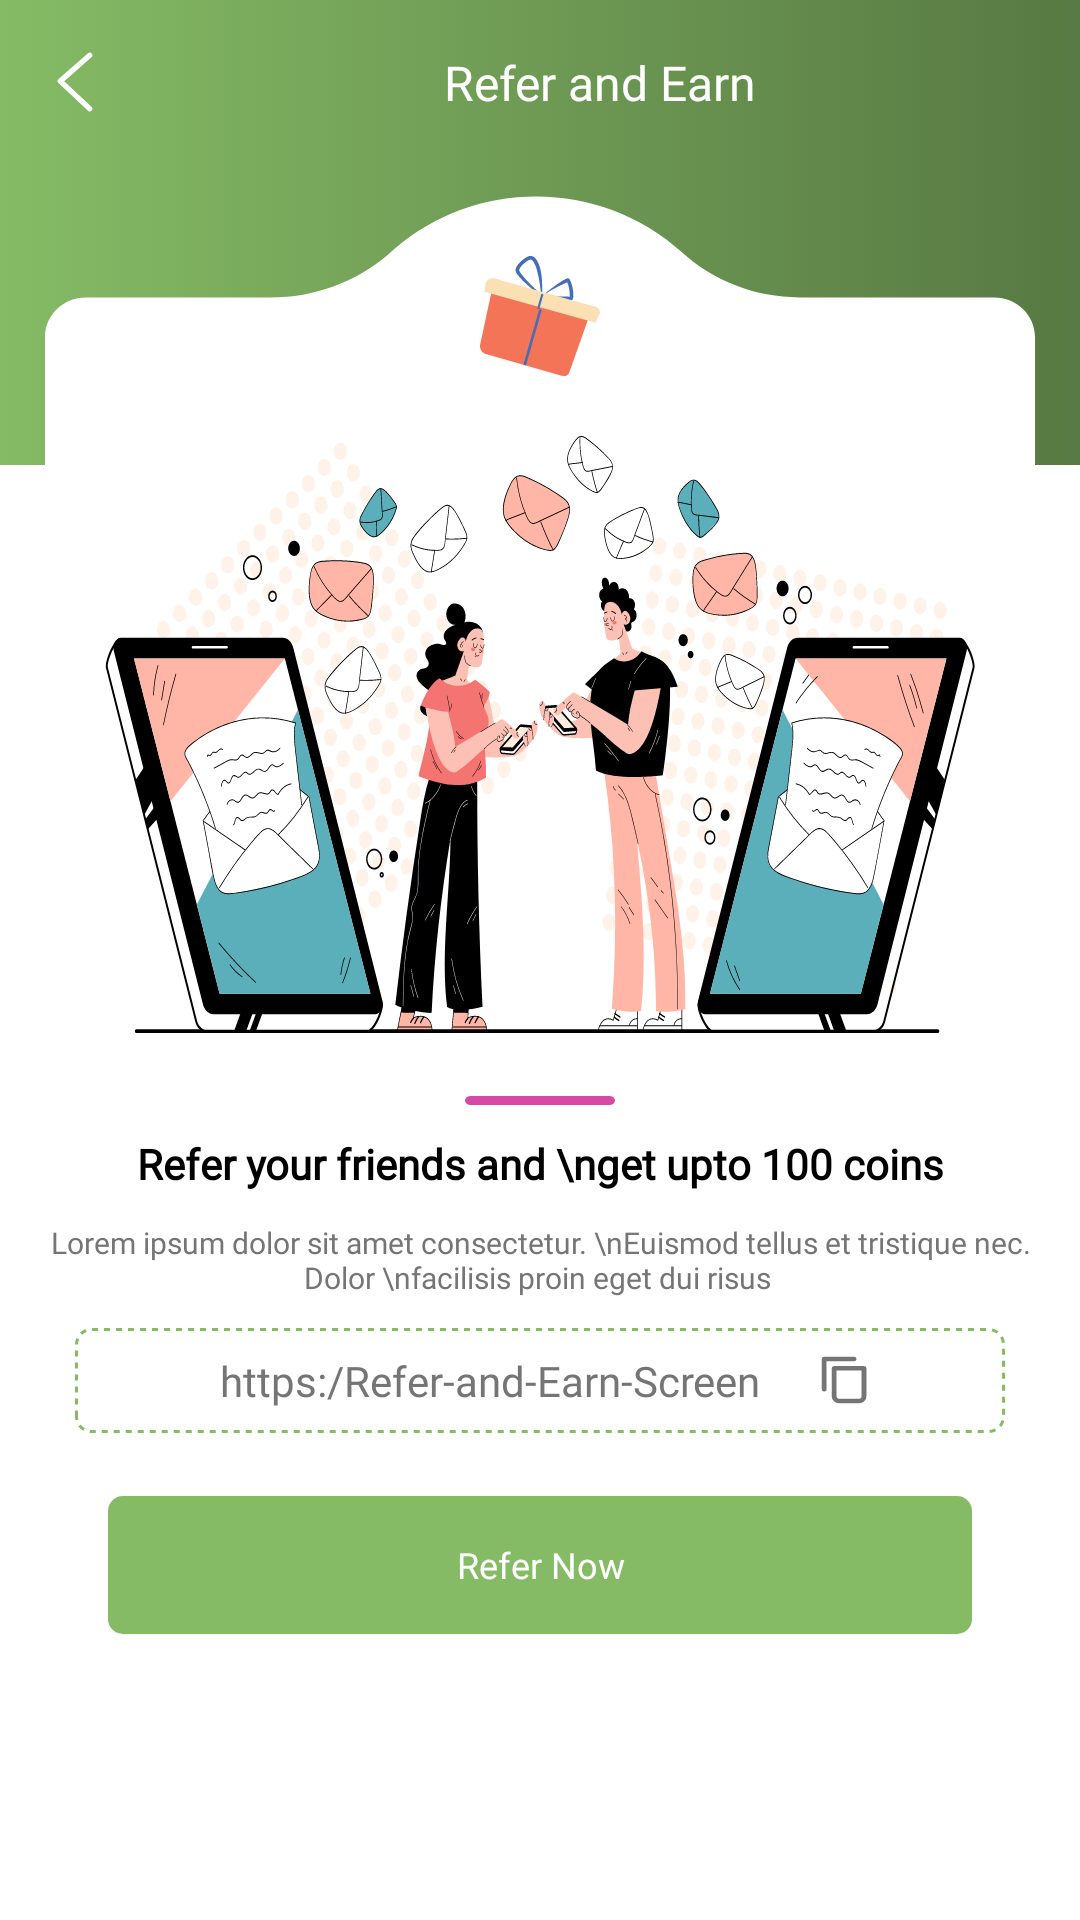

Locate icon controls on the screen. Image size 1080px x 1920px, boxes as region(x1, y1, x2, y2).
back: region(57, 52, 93, 112)
gift: region(480, 256, 600, 376)
